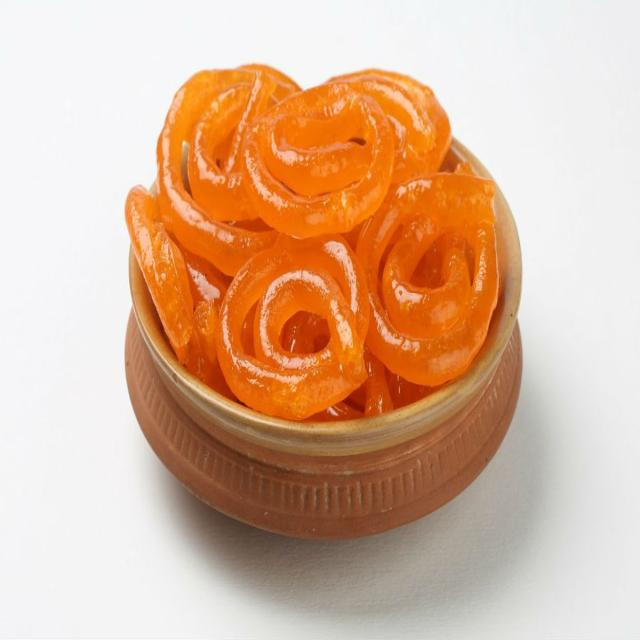jalebi: (117, 48, 514, 452)
